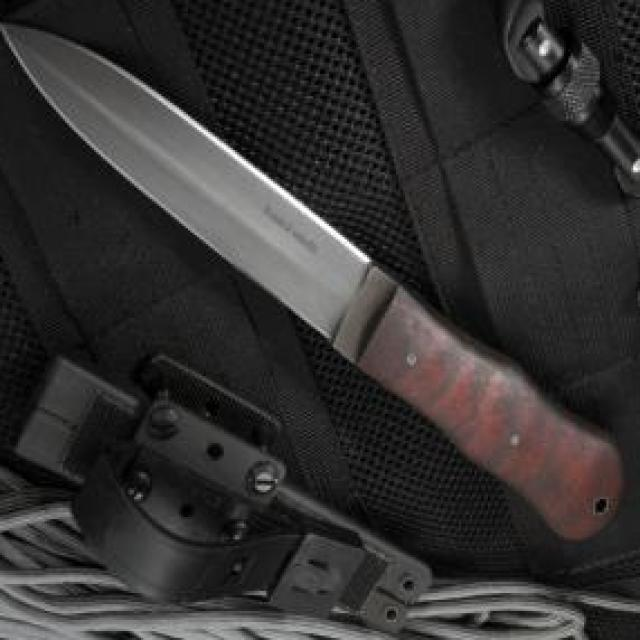knife: (0, 18, 443, 412)
